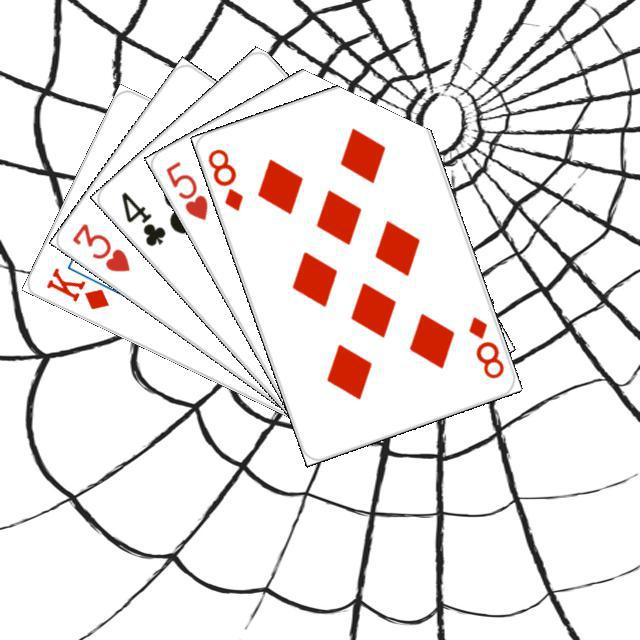3h: (67, 218, 132, 274)
4c: (116, 186, 168, 248)
5h: (161, 156, 210, 222)
8d: (202, 143, 245, 213), (463, 312, 506, 381)
Kd: (41, 262, 111, 312)
